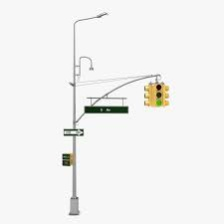semaforo: (154, 83, 164, 107)
